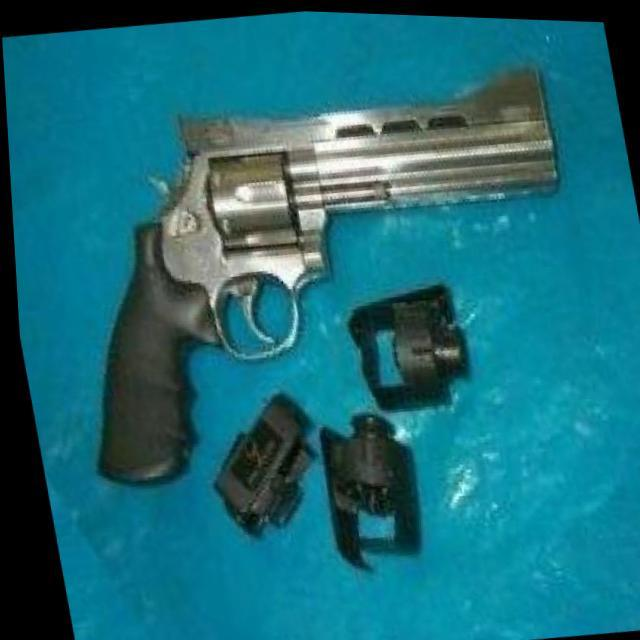weapon: (24, 41, 606, 503)
